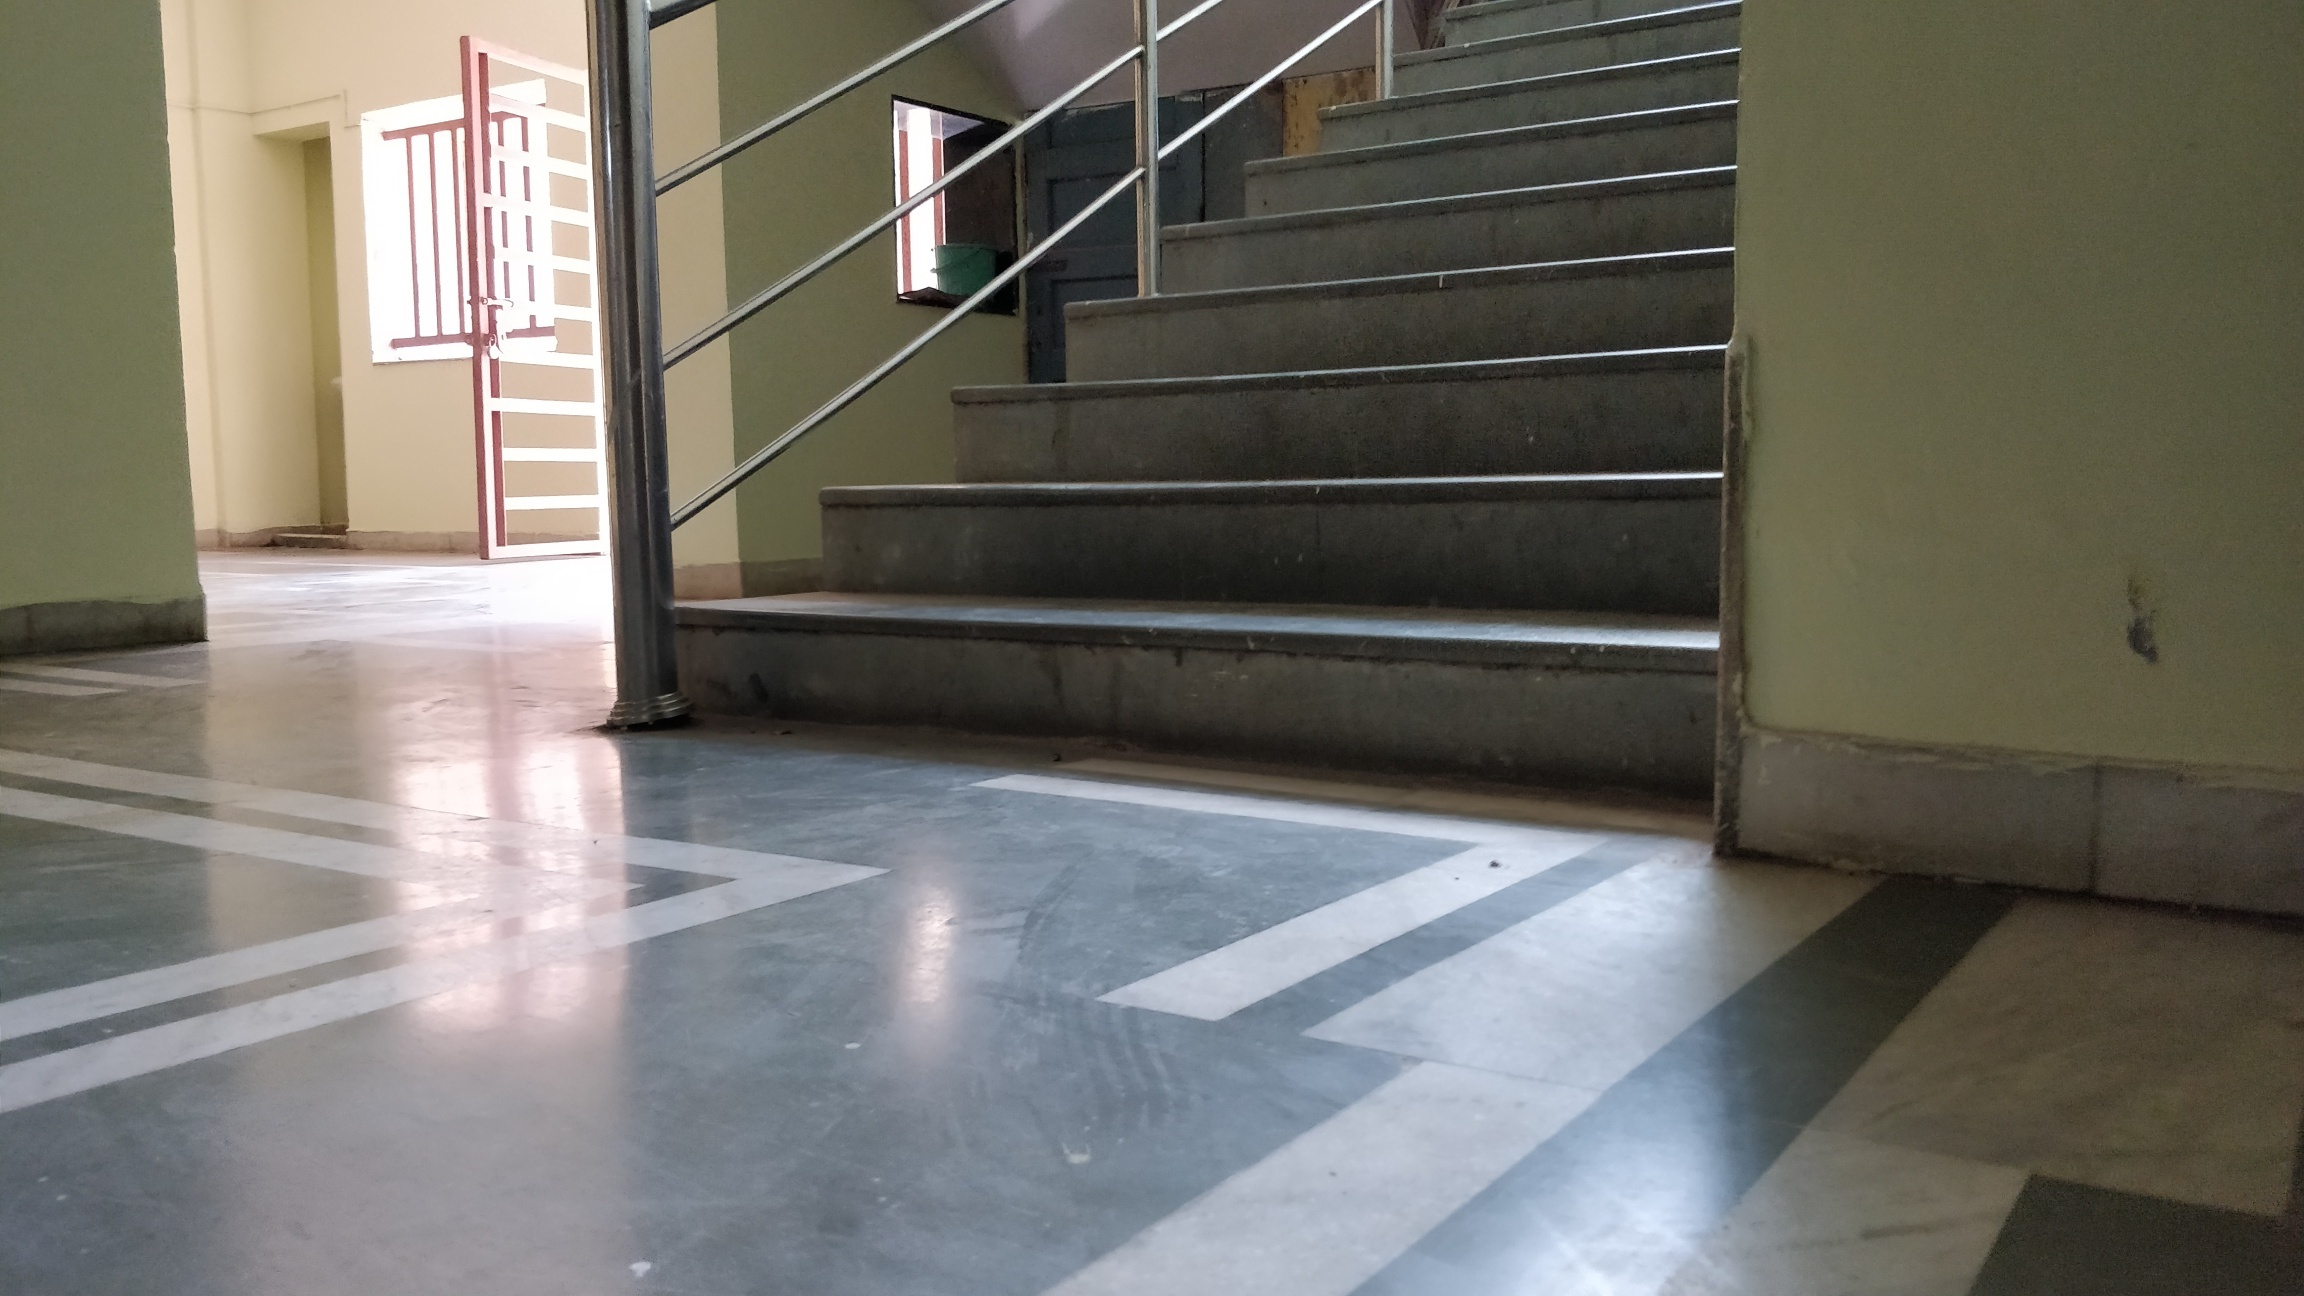stairs_up: (636, 6, 1737, 783)
